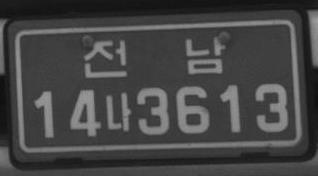1: (31, 89, 60, 139), (217, 84, 246, 134)
3: (254, 81, 290, 134), (135, 86, 170, 136)
4: (68, 88, 101, 136)
6: (174, 85, 210, 136)
나: (103, 90, 131, 133)
전남_D: (80, 35, 226, 79)
